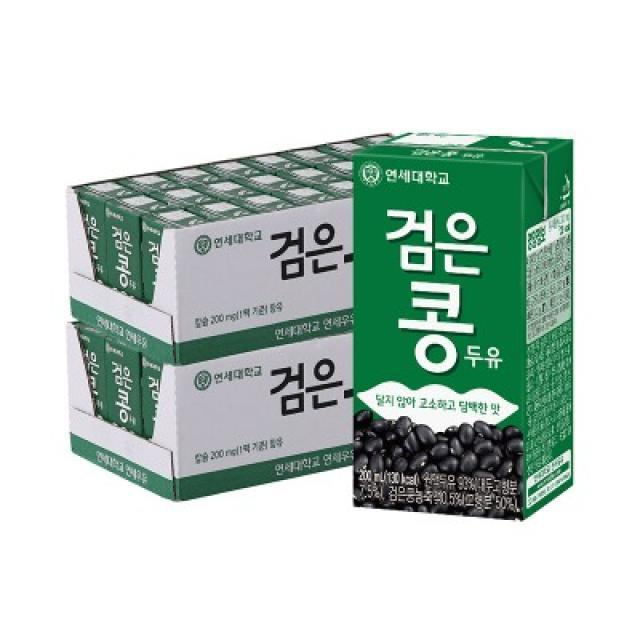Tetra: (346, 116, 584, 520)
